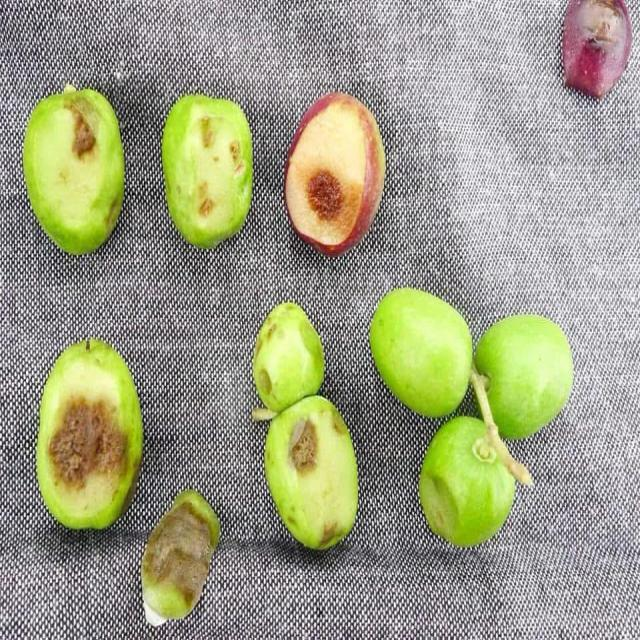Healthy: (371, 289, 472, 417), (475, 315, 572, 438)
Olive Fruit Fly: (252, 302, 357, 548), (36, 339, 142, 529), (23, 85, 124, 254), (285, 93, 385, 255), (163, 96, 252, 248), (142, 490, 219, 626)
